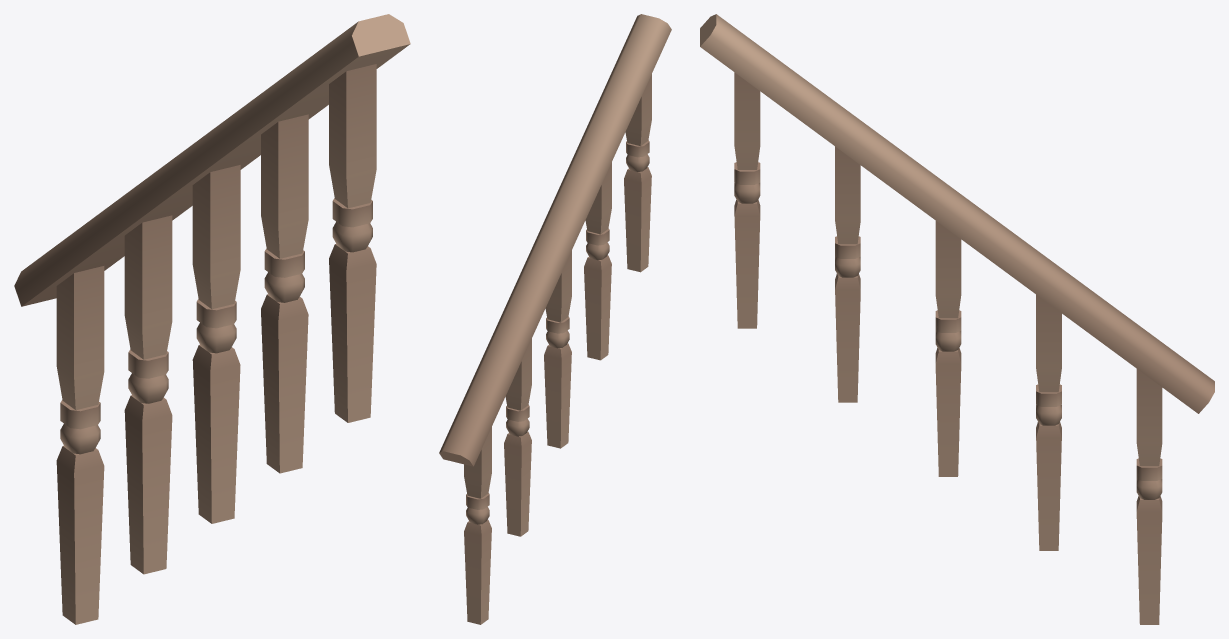
The model's file is stairs-railing-classic-short.glb.
3 renders of one model, left to right at view 1: azimuth 30°, elevation 25°; view 2: azimuth 150°, elevation 25°; view 3: azimuth 270°, elevation 25°, orthographic. The views are drawn at different scales.
Parts seen in each view (by area): view 1: stairs-railing-classic-short; view 2: stairs-railing-classic-short; view 3: stairs-railing-classic-short.
Part boxes in pixels (<box>): stairs-railing-classic-short: <box>14,14,410,624</box>; stairs-railing-classic-short: <box>439,14,671,624</box>; stairs-railing-classic-short: <box>700,14,1214,624</box>.
Size of the model in its own units: 0.12 by 1.8 by 1.4.
